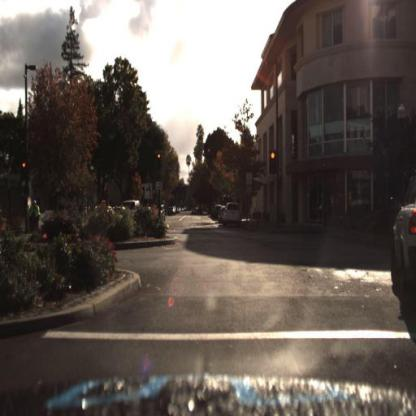biker: (26, 199, 44, 235)
car: (389, 147, 416, 325), (221, 199, 246, 228), (224, 201, 242, 228), (158, 205, 168, 220)
trafficLight: (20, 158, 28, 179)
trafficLight-Red: (269, 149, 277, 175), (155, 151, 163, 174)
